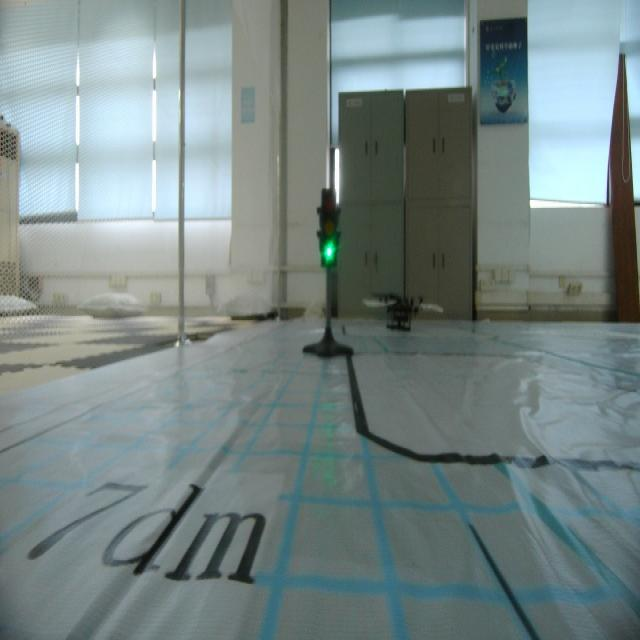green: (312, 187, 348, 276)
